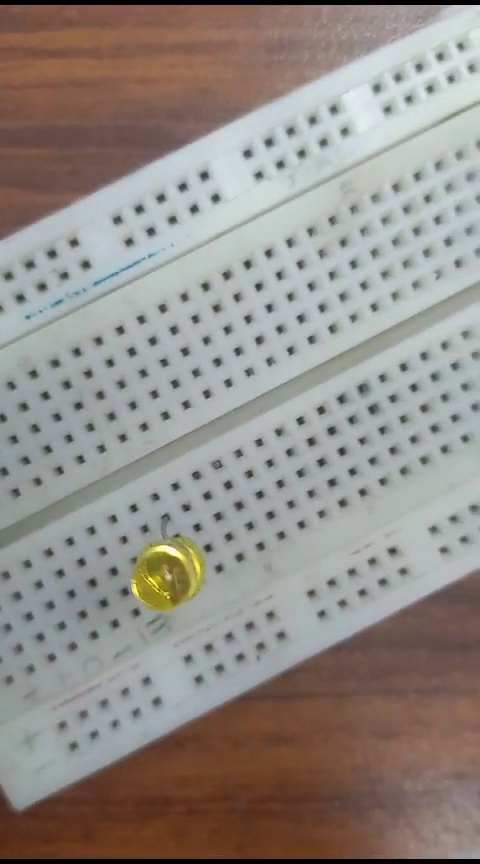LED: (124, 513, 202, 613)
